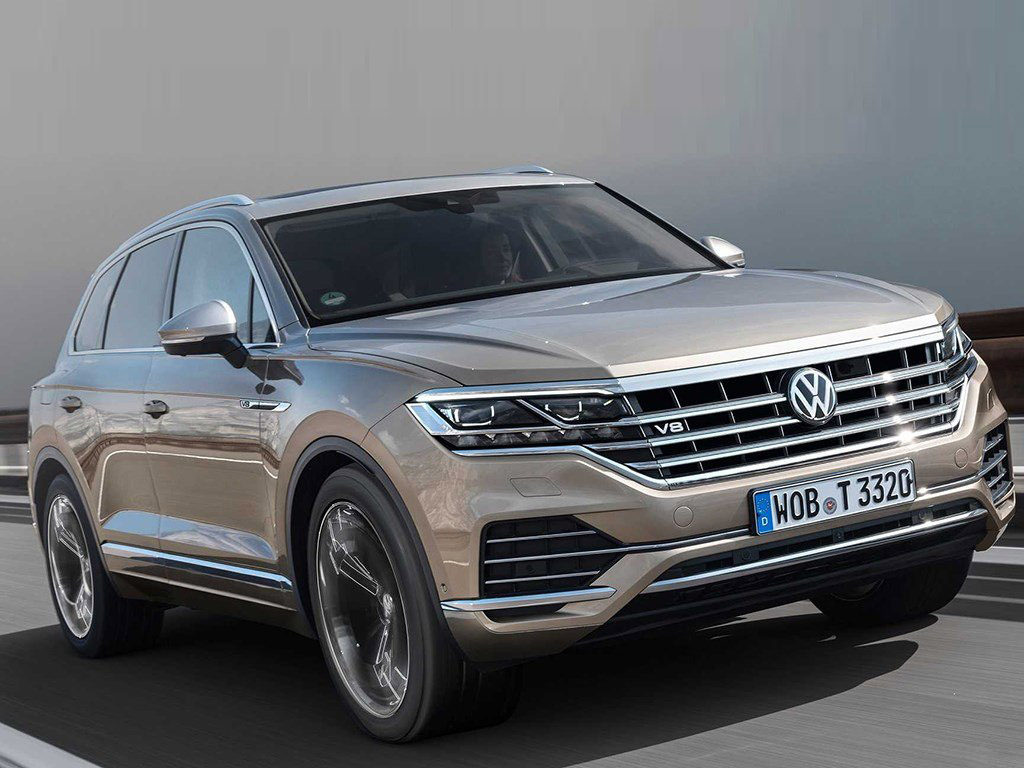other: (24, 163, 1024, 730)
